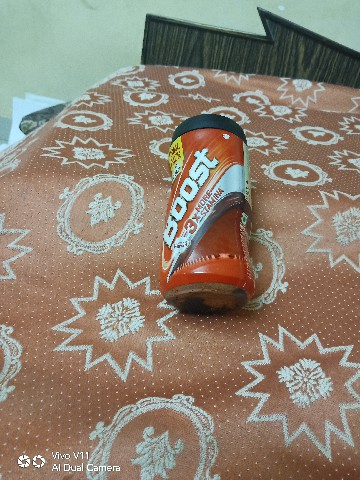boost small: (150, 82, 264, 348)
